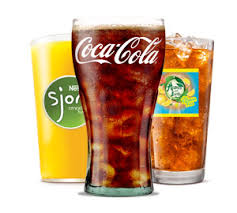coke: (71, 17, 170, 196)
